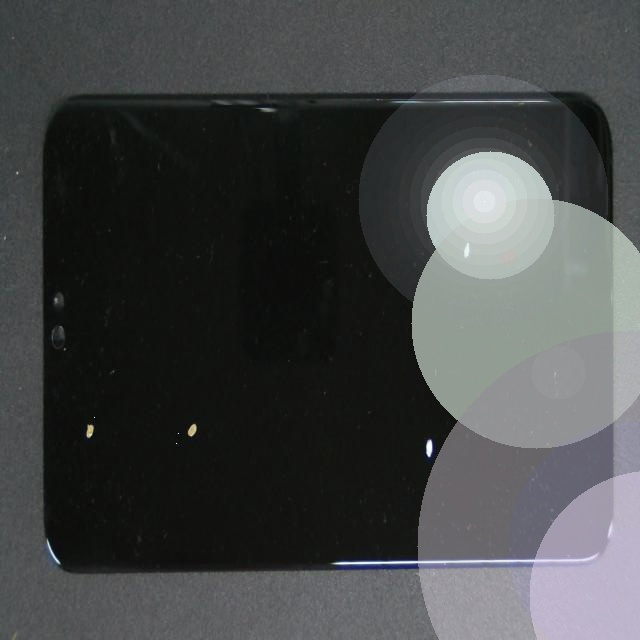stain: (209, 224, 626, 640), (231, 79, 640, 357), (108, 206, 282, 623), (40, 233, 122, 640)
